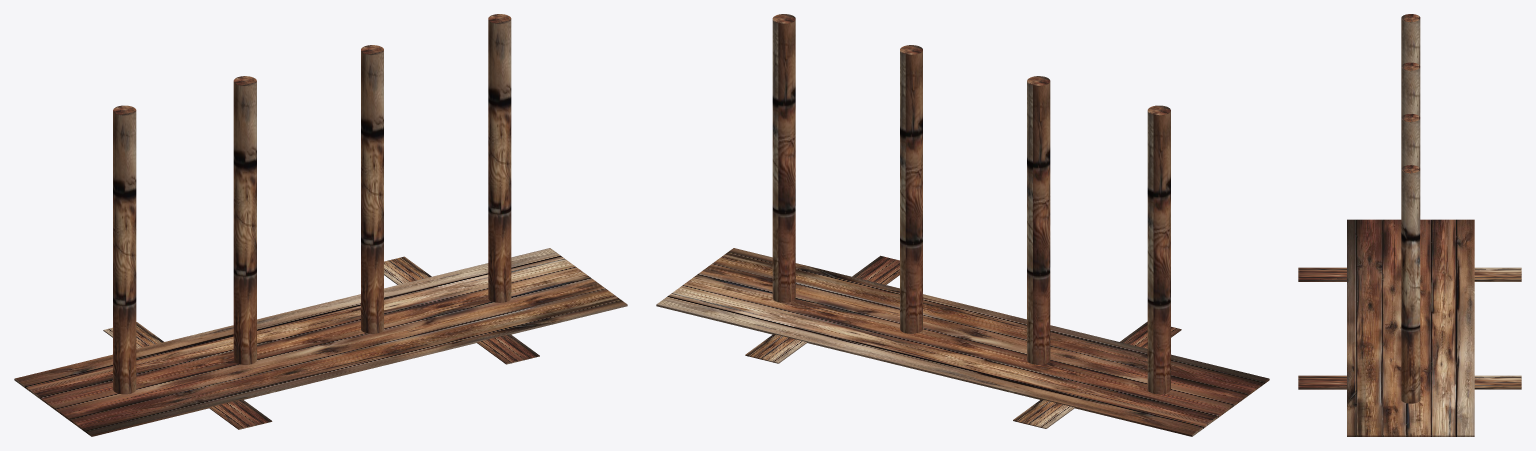
File: PujotteluAlo3D.glb
The picture shows the model from 3 angles, left to right: view 1: azimuth 30°, elevation 25°; view 2: azimuth 150°, elevation 25°; view 3: azimuth 270°, elevation 25°; orthographic projection. The views are drawn at different scales.
Parts seen in each view (by area): view 1: Plane, Cylinder.003, Cylinder, Cylinder.002, Cylinder.001, Plane.001, Plane.002; view 2: Plane, Cylinder.003, Cylinder, Cylinder.002, Cylinder.001, Plane.001, Plane.002; view 3: Plane, Cylinder, Plane.001, Plane.002, Cylinder.001, Cylinder.002, Cylinder.003.
Boxes of the visible parts, x1,y1,x2,y2 form: Plane: [14, 248, 627, 436]; Cylinder.003: [113, 105, 136, 394]; Cylinder: [488, 14, 511, 302]; Cylinder.002: [233, 76, 256, 364]; Cylinder.001: [361, 45, 383, 333]; Plane.001: [384, 256, 539, 364]; Plane.002: [103, 322, 272, 429]; Plane: [656, 248, 1269, 436]; Cylinder.003: [1147, 105, 1170, 394]; Cylinder: [772, 14, 795, 302]; Cylinder.002: [1027, 76, 1050, 364]; Cylinder.001: [900, 45, 922, 333]; Plane.001: [745, 255, 899, 363]; Plane.002: [1013, 321, 1181, 428]; Plane: [1347, 219, 1474, 436]; Cylinder: [1401, 165, 1420, 403]; Plane.001: [1298, 375, 1521, 389]; Plane.002: [1298, 267, 1521, 281]; Cylinder.001: [1401, 114, 1420, 167]; Cylinder.002: [1401, 62, 1420, 116]; Cylinder.003: [1401, 14, 1420, 65].
Size of the model in its own units: 0.8662 by 0.4338 by 0.379.
Materials: 1 (1 with a texture image).
